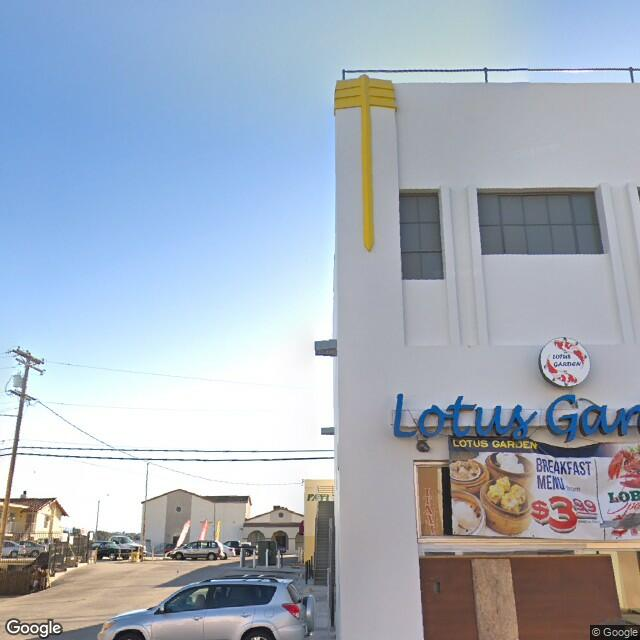window: (474, 181, 611, 259), (398, 187, 446, 281)
